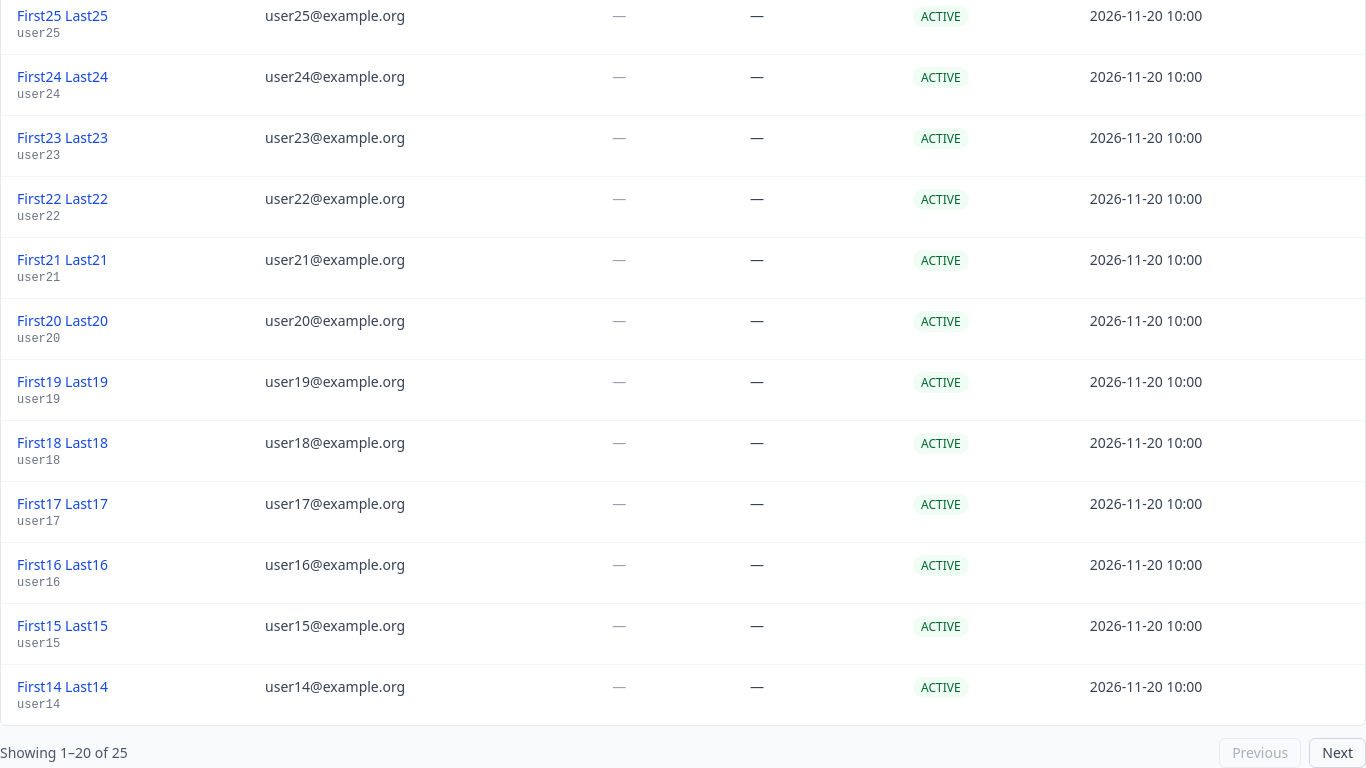
Test: UsersListPage › paginates on the server: 20 per page, Next/Previous, correct range text
(page scrolled)
Expected: the text "Showing 1–20 of 25" is shown, [0,743,128,763]
Expected: the button "Previous" is disabled, [1219,738,1301,767]
Click the button "Next".
click(1338, 753)  # box [1309,738,1365,767]
(page scrolled)
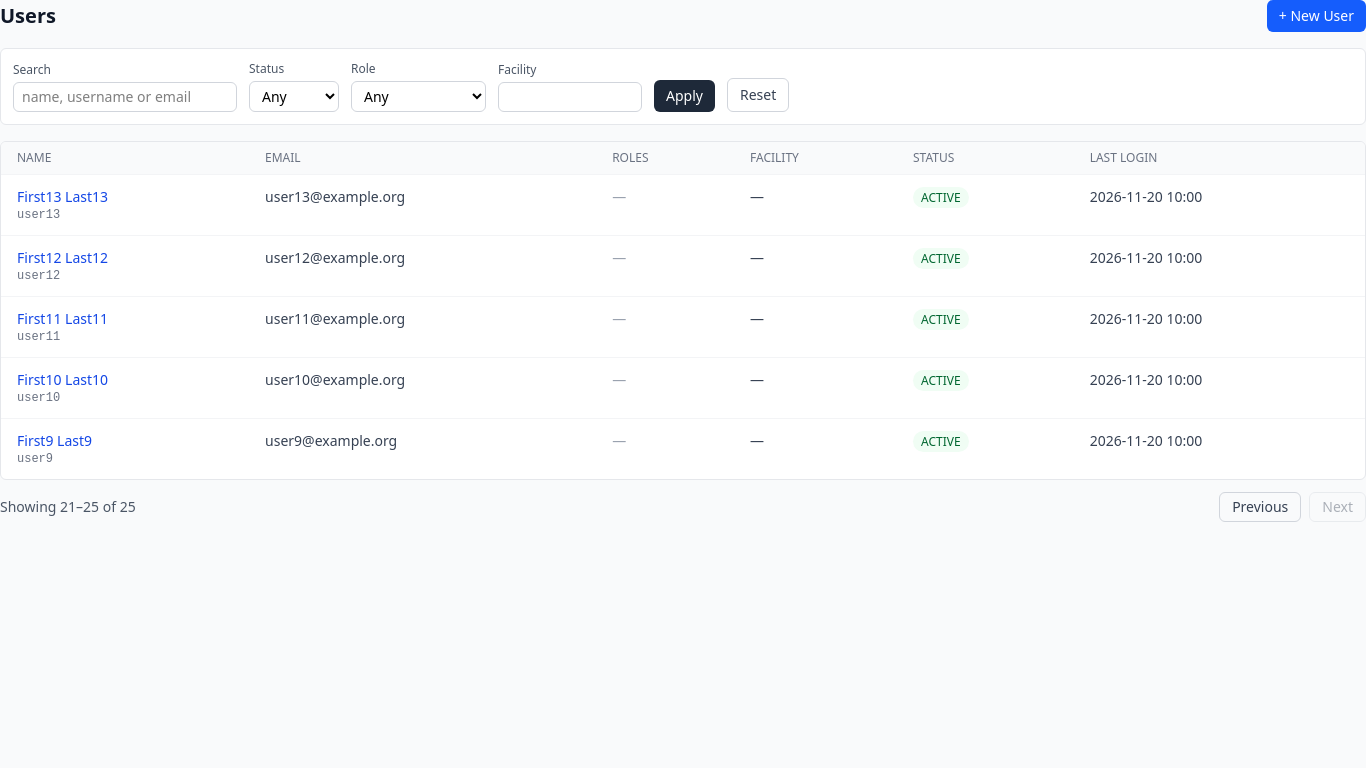
Expected: the number of rows is 6, [1,142,1365,174]; [1,174,1365,236]; [1,236,1365,296]; [1,296,1365,358]; [1,358,1365,418]; [1,418,1365,479]
Expected: the text "Showing 21–25 of 25" is shown, [0,497,136,517]
Expected: the button "Next" is disabled, [1309,492,1365,522]
Click the button "Previous".
click(1260, 507)  # box [1219,492,1301,522]
(page scrolled)
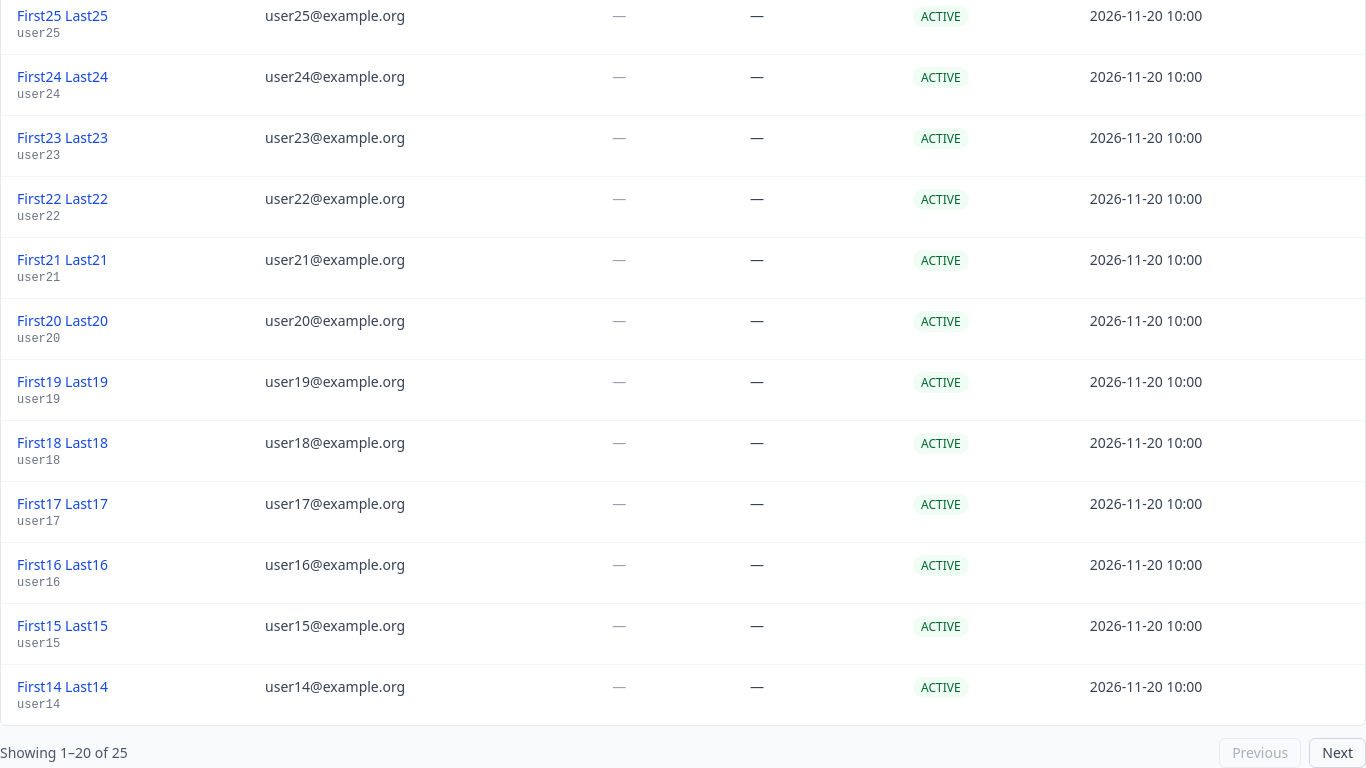
Expected: the text "Showing 1–20 of 25" is shown, [0,743,128,763]
